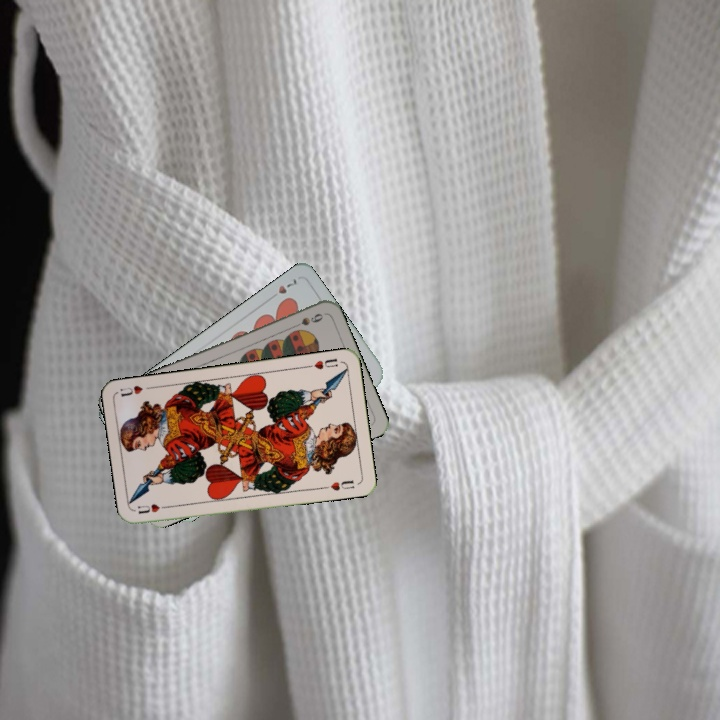H7: (266, 274, 299, 303)
HU: (303, 354, 340, 372), (134, 500, 173, 516)
S9: (287, 309, 326, 331)
